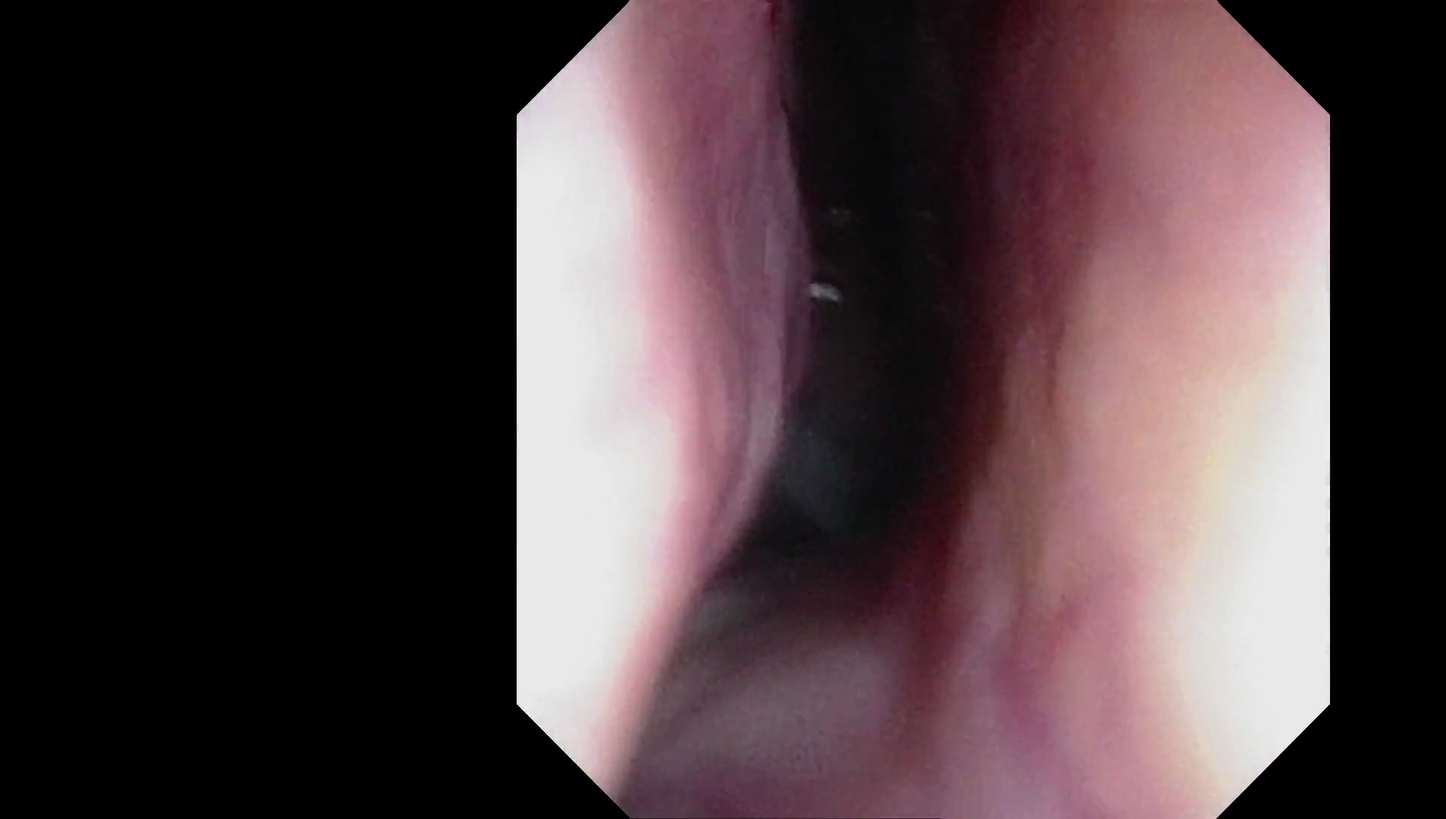close_wall: (1017, 150, 1327, 708), (524, 123, 764, 693)
next: (721, 13, 1084, 678)
